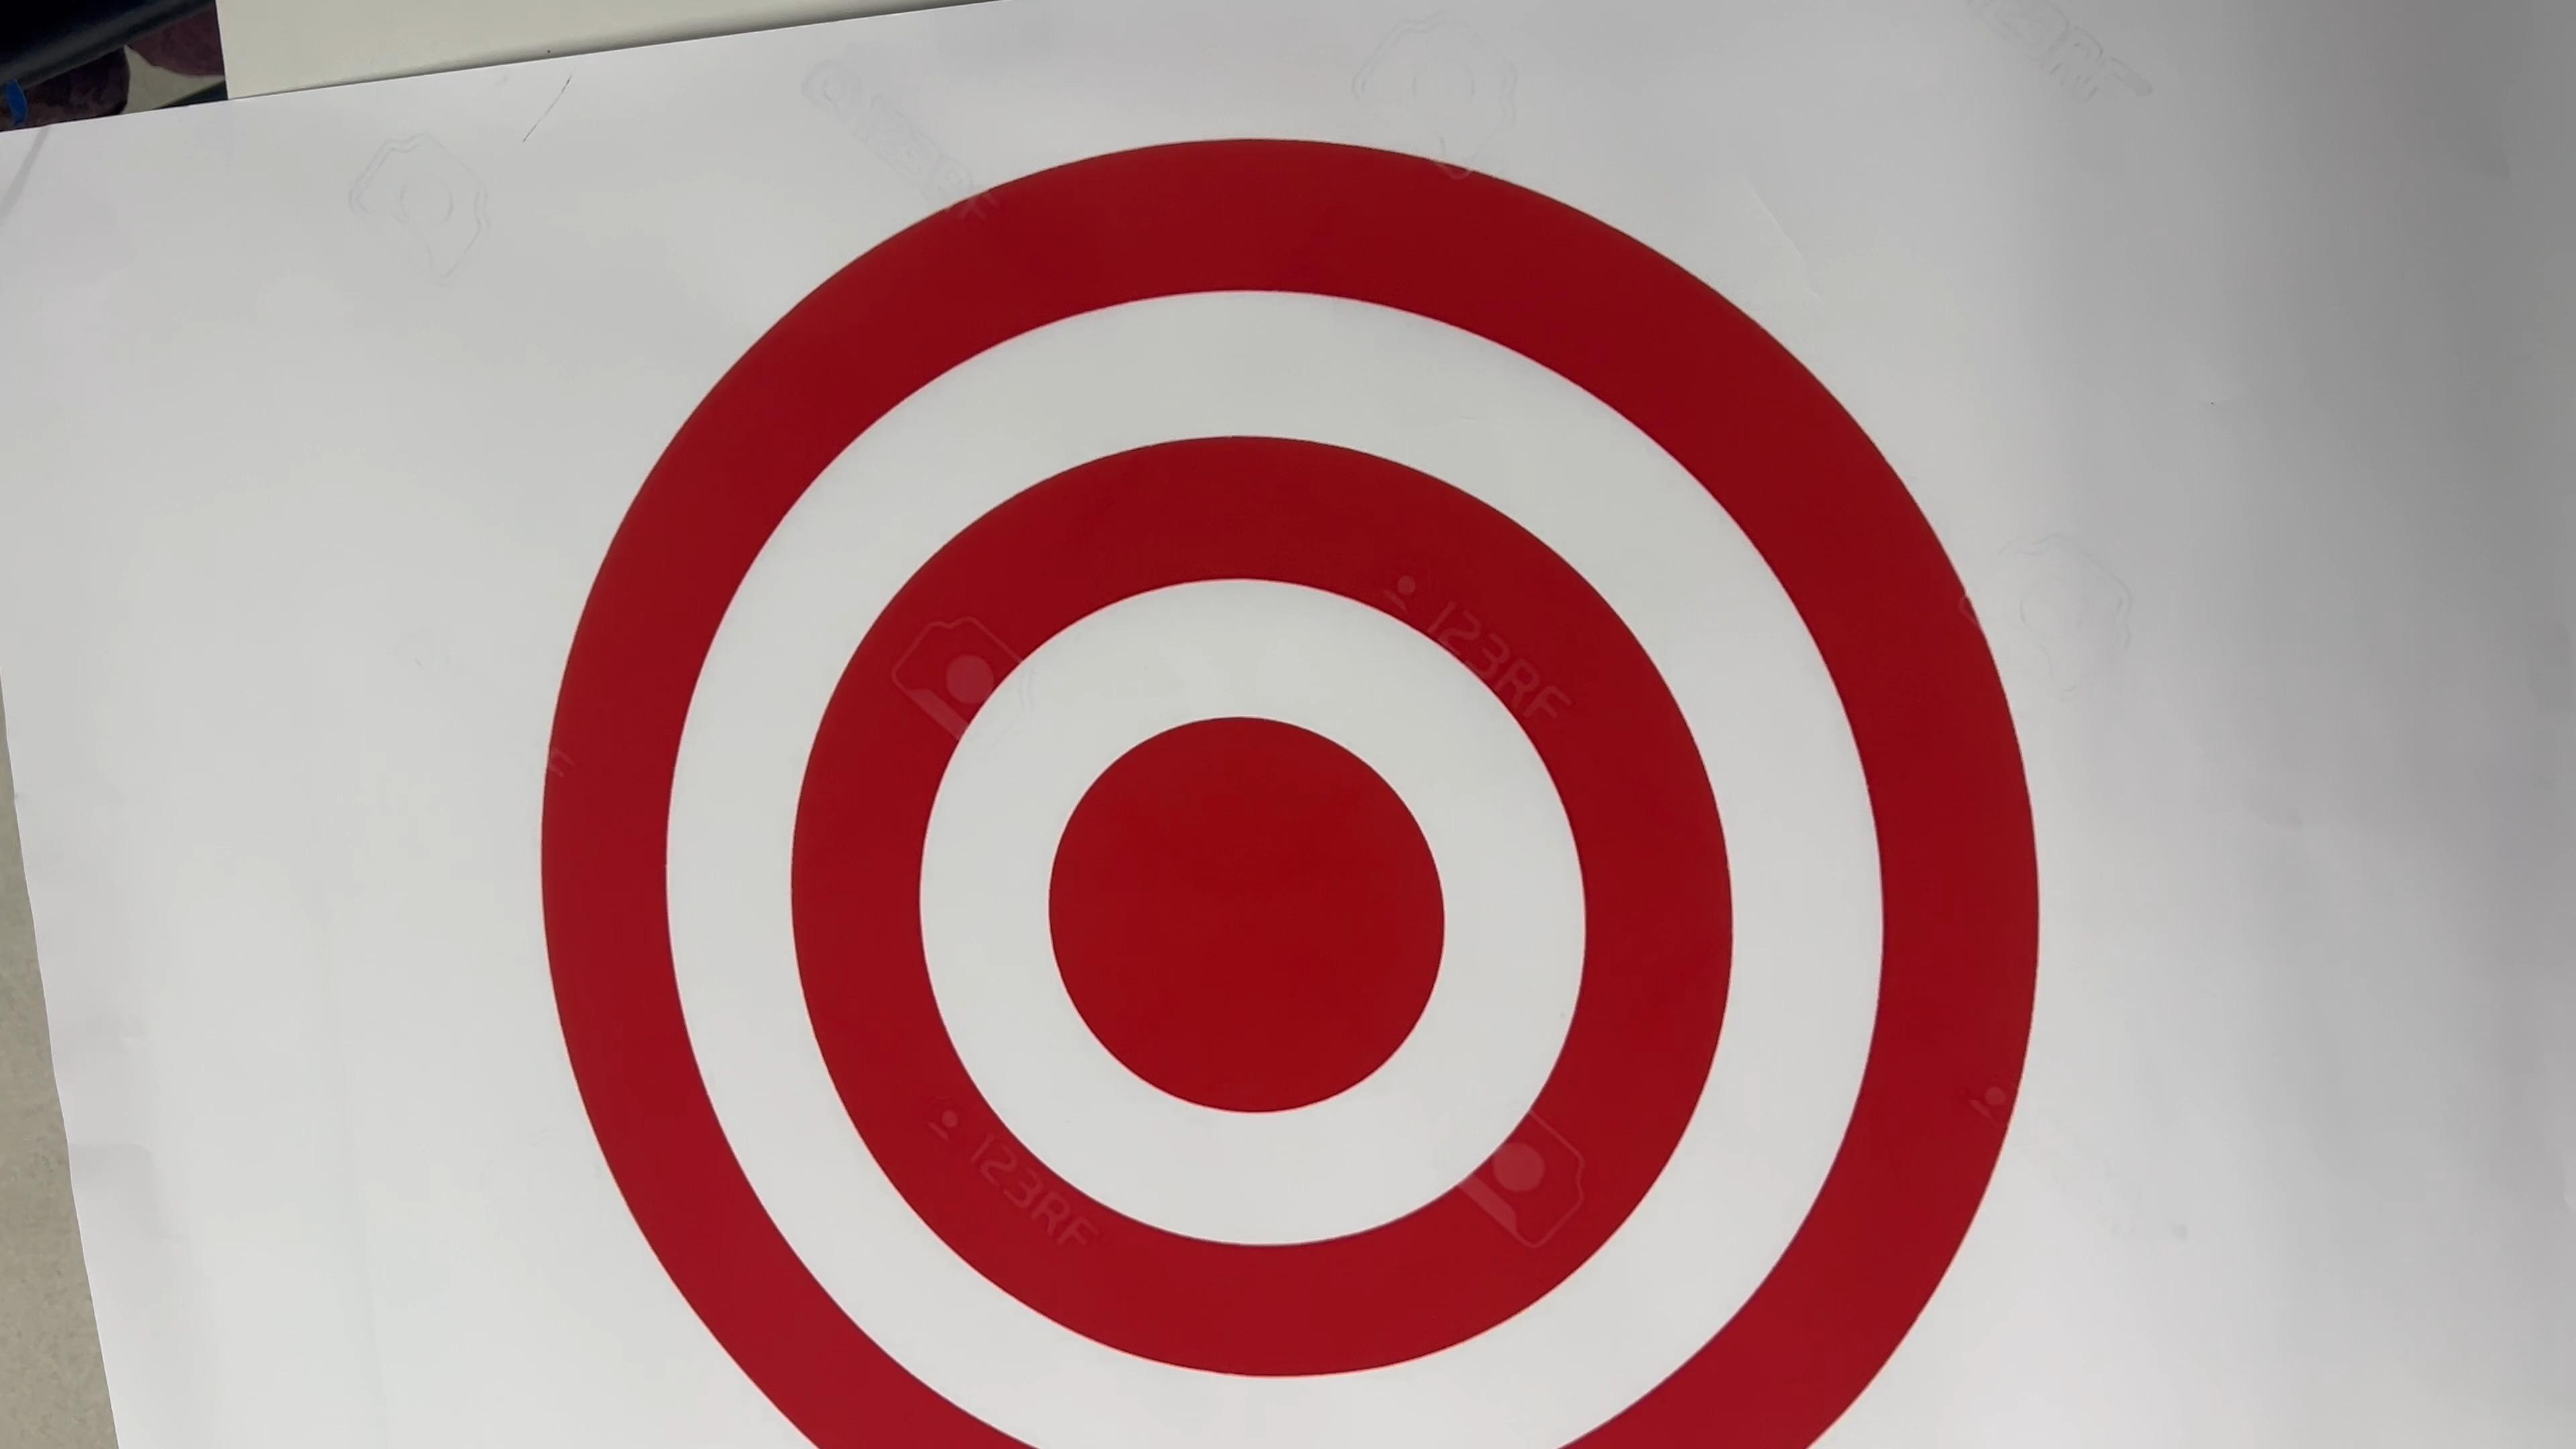target_red: (518, 126, 2068, 1449)
